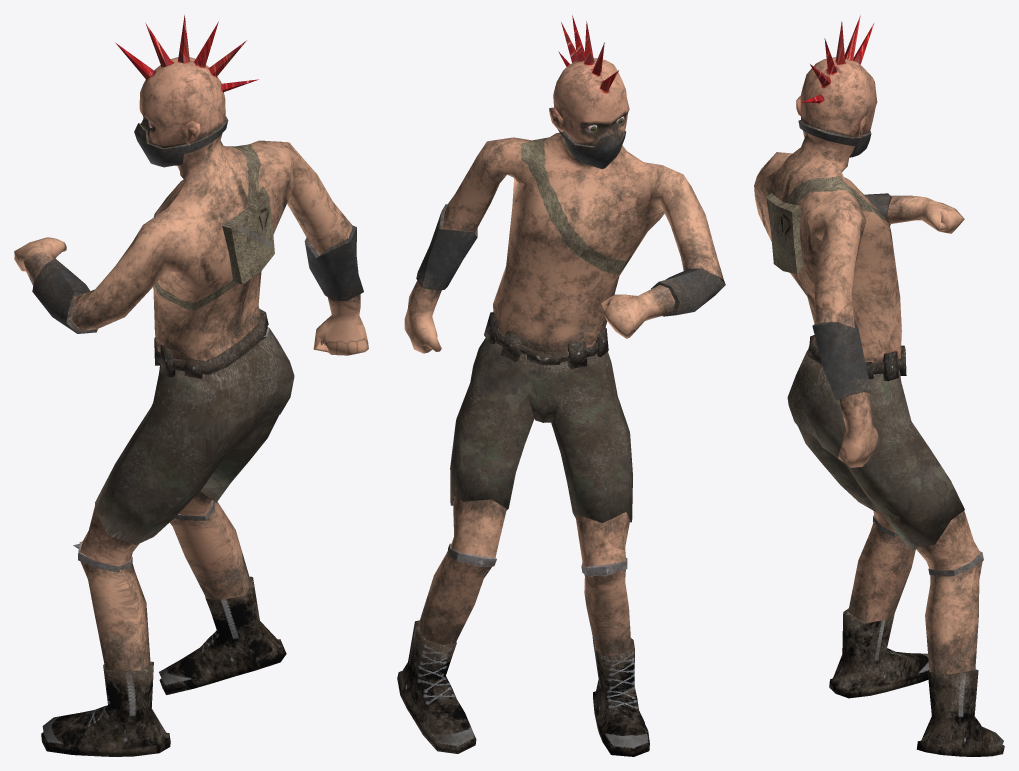
Rendered from Anim_ataque_f3_npc2.0039.obj.
The picture shows the model from 3 angles, left to right: view 1: azimuth 30°, elevation 25°; view 2: azimuth 150°, elevation 25°; view 3: azimuth 270°, elevation 25°; orthographic projection. The views are drawn at different scales.
Parts seen in each view (by area): view 1: polySurface1; view 2: polySurface1; view 3: polySurface1.
Boxes of the visible parts, x1,y1,x2,y2 form: polySurface1: (14, 15, 368, 756); polySurface1: (397, 15, 725, 756); polySurface1: (754, 15, 1004, 756).
Bounding box in the file's own units: 4.49 × 9.91 × 3.21.
2 materials, 2 textured.
